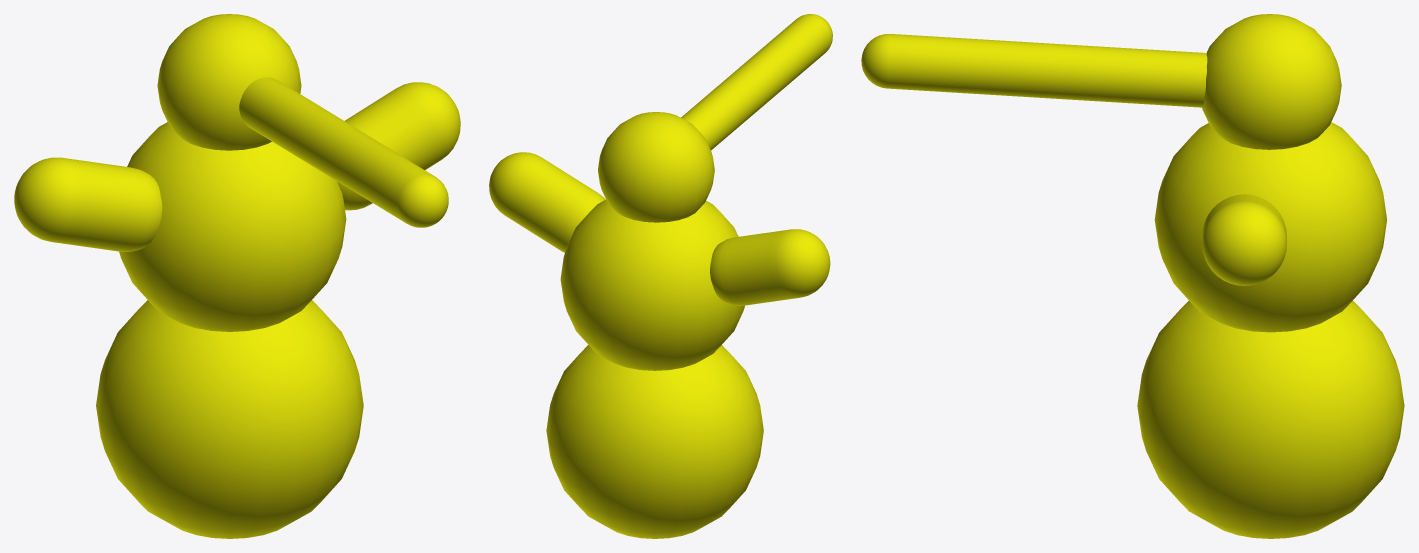
File: player2_primitive.fbx
The picture shows the model from 3 angles, left to right: view 1: azimuth 30°, elevation 25°; view 2: azimuth 150°, elevation 25°; view 3: azimuth 270°, elevation 25°; orthographic projection. The views are drawn at different scales.
Visible parts, largest first — view 1: Sphere_3, Sphere_2, Sphere, Capsule, Capsule_2_2, Capsule_2; view 2: Sphere_3, Sphere_2, Sphere, Capsule_2_2, Capsule, Capsule_2; view 3: Sphere_3, Sphere_2, Capsule, Sphere, Capsule_2.
Part boxes in pixels (bbox=[...]): Sphere_3: bbox=[96, 300, 363, 538]; Sphere_2: bbox=[119, 122, 346, 331]; Sphere: bbox=[157, 14, 301, 150]; Capsule: bbox=[239, 77, 448, 227]; Capsule_2_2: bbox=[14, 157, 162, 251]; Capsule_2: bbox=[337, 82, 460, 210]; Sphere_3: bbox=[546, 345, 763, 538]; Sphere_2: bbox=[560, 199, 744, 370]; Sphere: bbox=[598, 112, 714, 222]; Capsule_2_2: bbox=[710, 229, 830, 305]; Capsule: bbox=[681, 14, 832, 150]; Capsule_2: bbox=[489, 152, 605, 252]; Sphere_3: bbox=[1137, 301, 1404, 538]; Sphere_2: bbox=[1154, 122, 1386, 332]; Capsule: bbox=[861, 34, 1207, 107]; Sphere: bbox=[1202, 14, 1341, 149]; Capsule_2: bbox=[1202, 194, 1286, 285].
Size of the model in its own units: 184 by 212 by 206.
